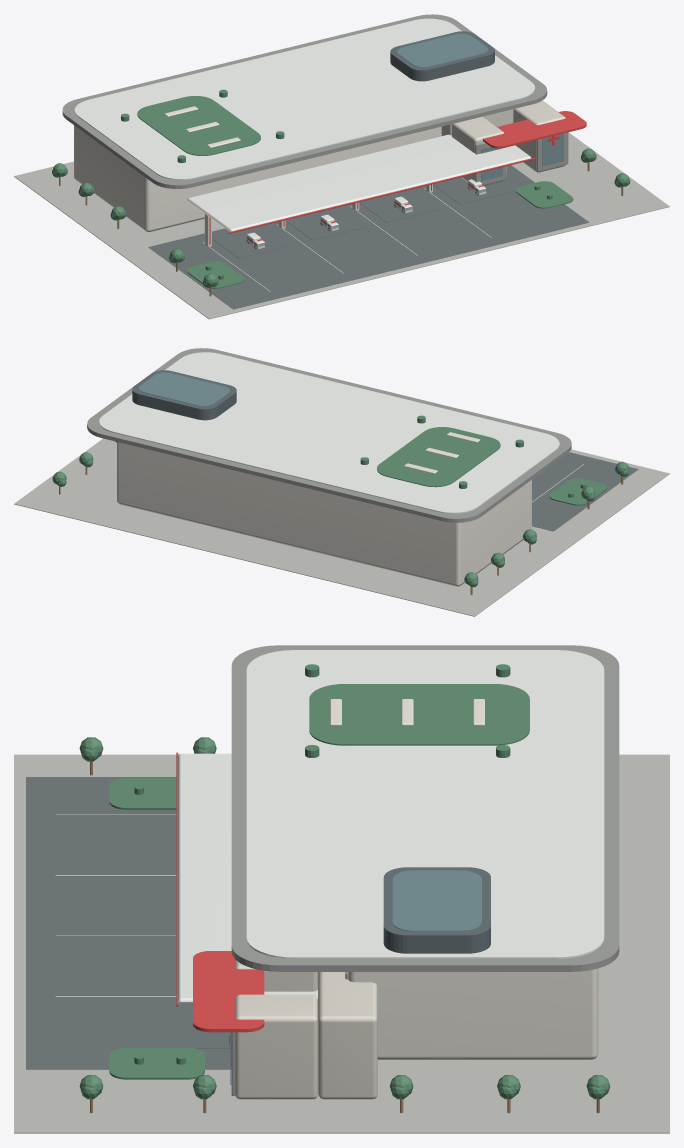
The picture shows the model from 3 angles, top to bottom: view 1: azimuth 30°, elevation 25°; view 2: azimuth 150°, elevation 25°; view 3: azimuth 270°, elevation 25°; orthographic projection. The views are drawn at different scales.
Visible parts, largest first — view 1: White roof highlight, Vehicle dispatch apron, EMS arrival plaza, Emergency garage canopy, Rear triage and treatment core, Floating clinical roof, Healing roof garden, Heli skylight, Heli-reception pavilion, Urgent care entry canopy, Raised ambulance bay track, Raised ambulance bay track.002 (+10 smaller); view 2: White roof highlight, Rear triage and treatment core, EMS arrival plaza, Floating clinical roof, Healing roof garden, Vehicle dispatch apron, Heli skylight, Heli-reception pavilion, Public landscape bed; view 3: White roof highlight, EMS arrival plaza, Vehicle dispatch apron, Rear triage and treatment core, Floating clinical roof, Healing roof garden, Emergency garage canopy, Diagnostics east wing, Diagnostics rear core, Heli skylight, Urgent care entry canopy, Heli-reception pavilion (+3 smaller).
Part boxes in pixels (left/top/right/bottom): White roof highlight: left=74, top=18, right=534, bottom=179; Vehicle dispatch apron: left=148, top=165, right=589, bottom=309; EMS arrival plaza: left=14, top=132, right=669, bottom=319; Emergency garage canopy: left=187, top=134, right=530, bottom=231; Rear triage and treatment core: left=74, top=125, right=441, bottom=231; Floating clinical roof: left=62, top=14, right=547, bottom=188; Healing roof garden: left=137, top=96, right=260, bottom=155; Heli skylight: left=397, top=33, right=488, bottom=67; Heli-reception pavilion: left=390, top=31, right=494, bottom=81; Urgent care entry canopy: left=482, top=111, right=586, bottom=148; Raised ambulance bay track: left=212, top=225, right=291, bottom=258; Raised ambulance bay track.002: left=359, top=189, right=439, bottom=222; White roof highlight: left=99, top=352, right=559, bottom=513; Rear triage and treatment core: left=117, top=442, right=531, bottom=586; EMS arrival plaza: left=14, top=438, right=669, bottom=616; Floating clinical roof: left=87, top=348, right=571, bottom=522; Healing roof garden: left=377, top=427, right=500, bottom=487; Vehicle dispatch apron: left=532, top=452, right=638, bottom=531; Heli skylight: left=139, top=372, right=230, bottom=406; Heli-reception pavilion: left=132, top=370, right=236, bottom=420; Public landscape bed: left=549, top=478, right=606, bottom=505; White roof highlight: left=246, top=650, right=604, bottom=958; EMS arrival plaza: left=14, top=754, right=669, bottom=1133; Vehicle dispatch apron: left=26, top=777, right=231, bottom=1069; Rear triage and treatment core: left=348, top=968, right=598, bottom=1059; Floating clinical roof: left=231, top=645, right=619, bottom=971; Healing roof garden: left=309, top=684, right=529, bottom=745; Emergency garage canopy: left=178, top=753, right=317, bottom=1003; Diagnostics east wing: left=235, top=994, right=317, bottom=1099; Diagnostics rear core: left=318, top=972, right=377, bottom=1099; Heli skylight: left=392, top=870, right=481, bottom=931; Urgent care entry canopy: left=193, top=951, right=264, bottom=1032; Heli-reception pavilion: left=383, top=867, right=490, bottom=953.
Size of the model in its own units: 150 by 27.78 by 110.
